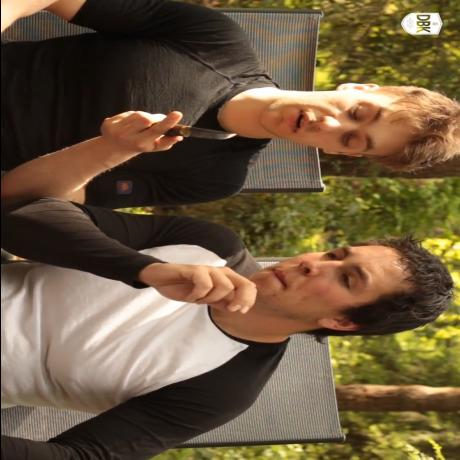1: (0, 206, 452, 460), (0, 0, 459, 208)
weapon: (168, 124, 242, 144)
